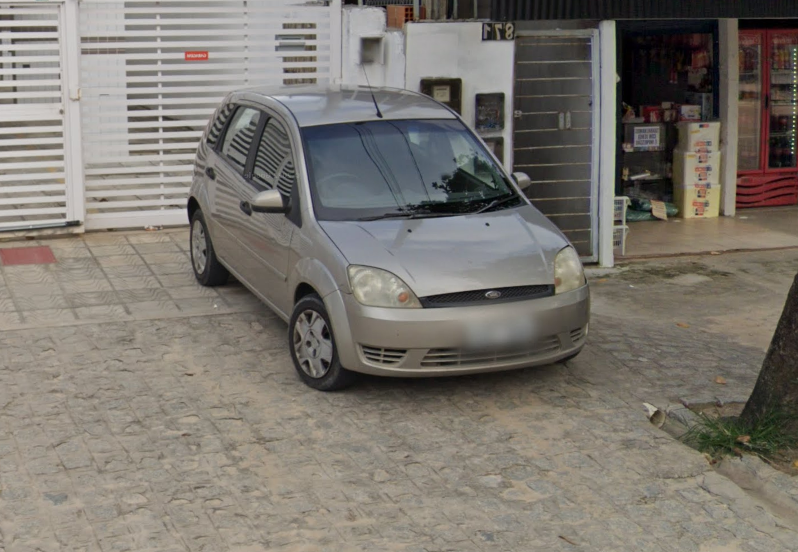car: (178, 49, 597, 406)
